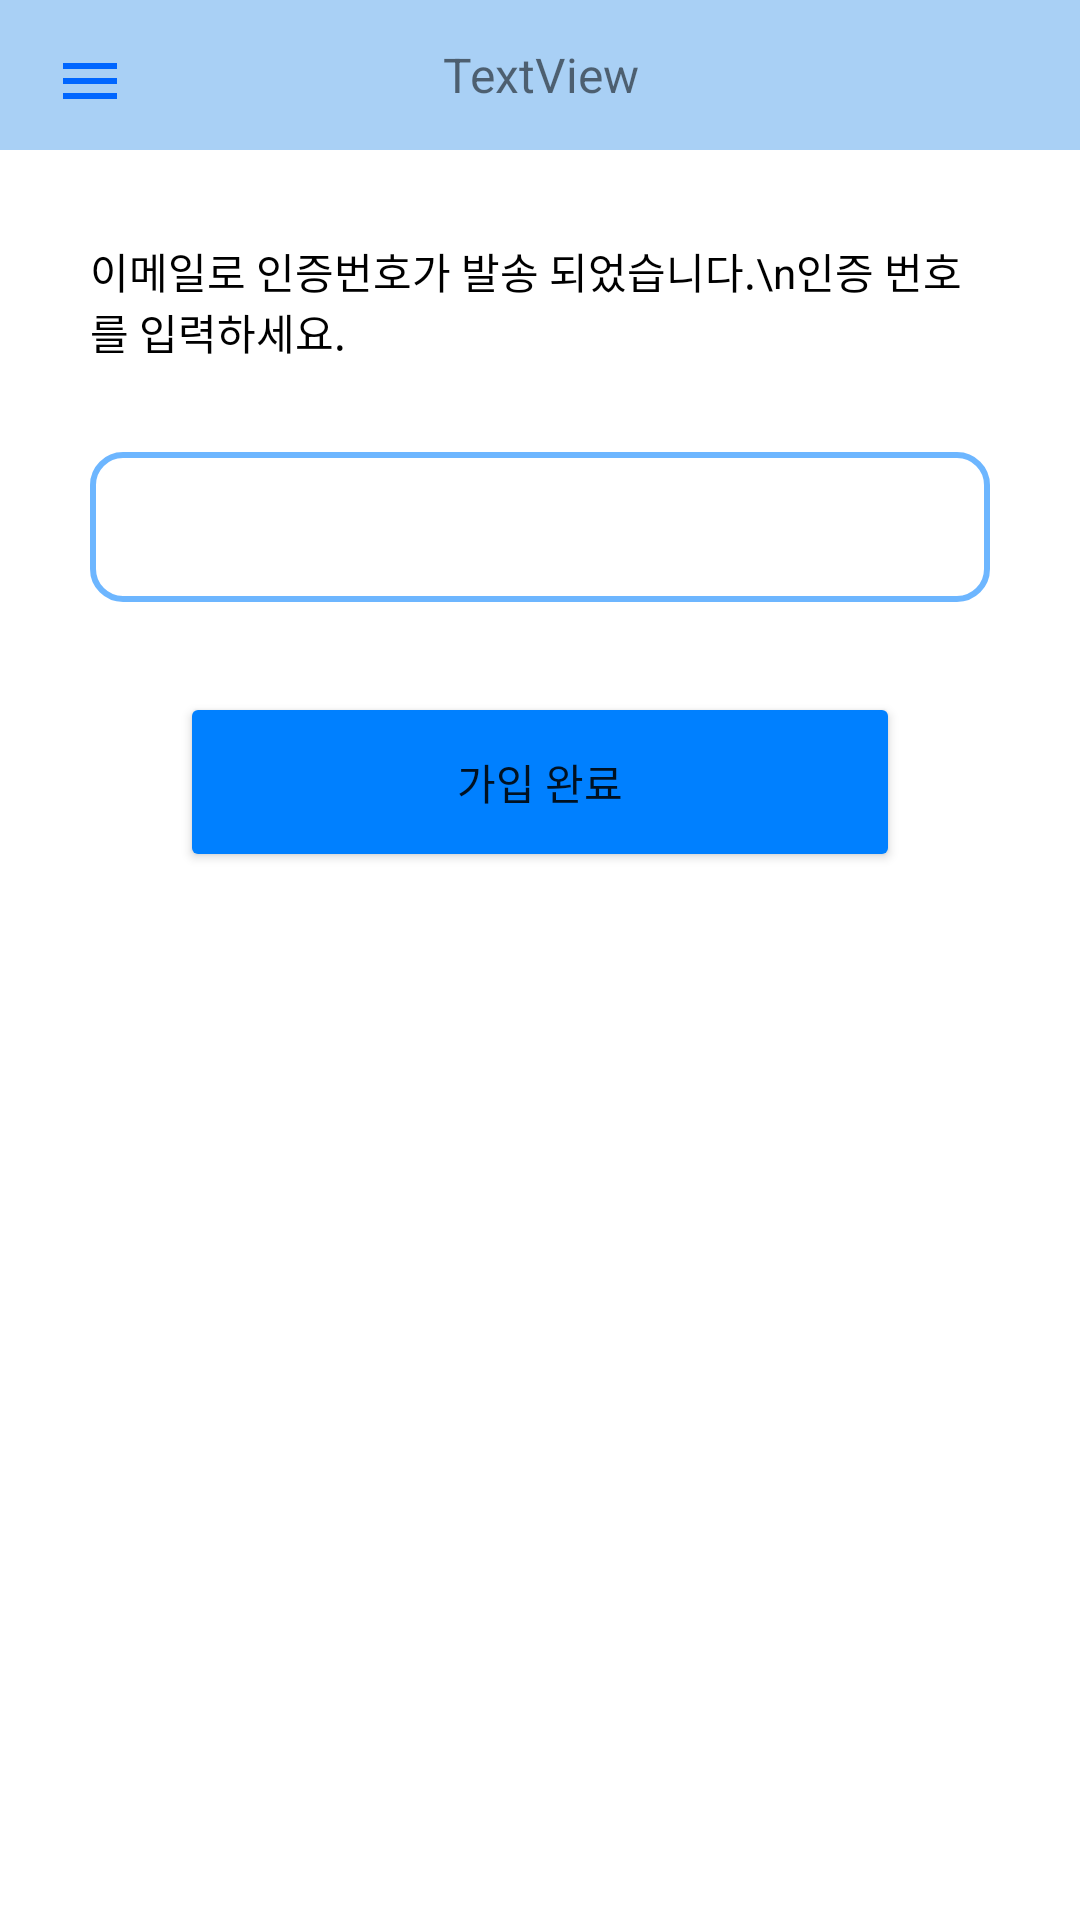

Icons on this 1080*1920 Android screen, each with its box as {"x1": x1, "y1": y1, "x2": x2, "y2": y2}:
menu: {"x1": 63, "y1": 63, "x2": 117, "y2": 99}
